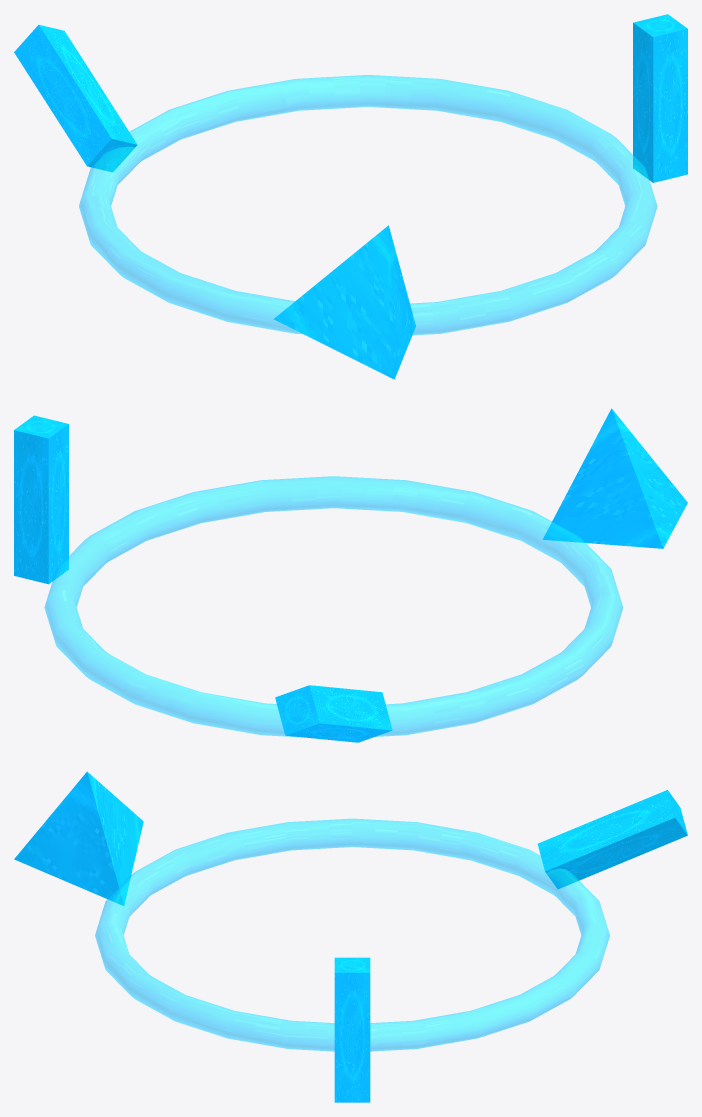
File: story-marker-cyan.high.glb
3 renders of one model, top to bottom at view 1: azimuth 30°, elevation 25°; view 2: azimuth 150°, elevation 25°; view 3: azimuth 270°, elevation 25°, orthographic. The views are drawn at different scales.
Visible parts, largest first — view 1: story-marker-cyan-transparent|#00ccff|#00ccff|0.38|1|0.04|0., story-marker-cyan-body; view 2: story-marker-cyan-transparent|#00ccff|#00ccff|0.38|1|0.04|0., story-marker-cyan-body; view 3: story-marker-cyan-transparent|#00ccff|#00ccff|0.38|1|0.04|0., story-marker-cyan-body.
Part boxes in pixels (bbox=[...]): story-marker-cyan-transparent|#00ccff|#00ccff|0.38|1|0.04|0.: bbox=[79, 75, 657, 335]; story-marker-cyan-body: bbox=[14, 14, 687, 379]; story-marker-cyan-transparent|#00ccff|#00ccff|0.38|1|0.04|0.: bbox=[44, 476, 623, 737]; story-marker-cyan-body: bbox=[14, 408, 687, 742]; story-marker-cyan-transparent|#00ccff|#00ccff|0.38|1|0.04|0.: bbox=[95, 818, 609, 1051]; story-marker-cyan-body: bbox=[14, 771, 687, 1102].
Bounding box in the file's own units: 0.805 × 0.217 × 0.942.
Materials: 2 (2 with a texture image).
